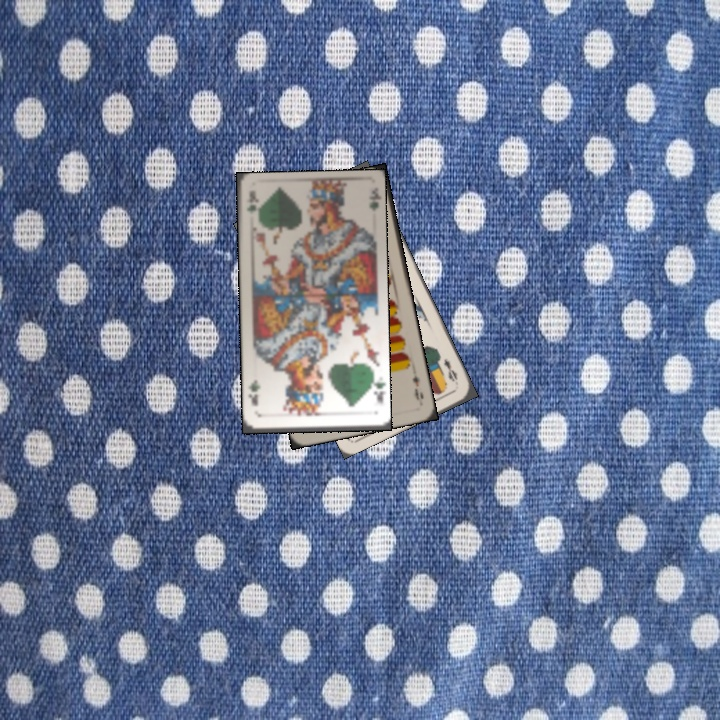E9: (408, 371, 426, 403)
EO: (439, 355, 460, 385)
GK: (366, 373, 386, 406), (243, 193, 260, 216)
